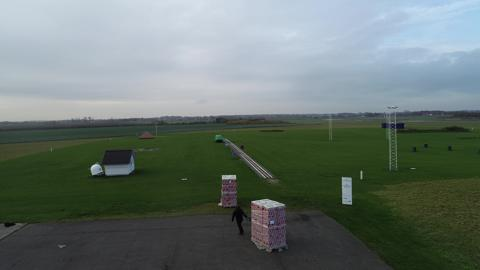RockwoolPallet: (221, 173, 237, 208)
